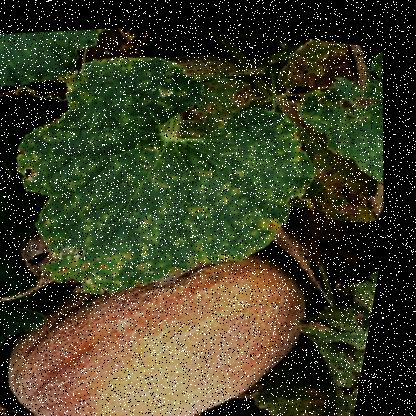Anthracnose: (136, 96, 321, 284), (30, 138, 217, 306)
